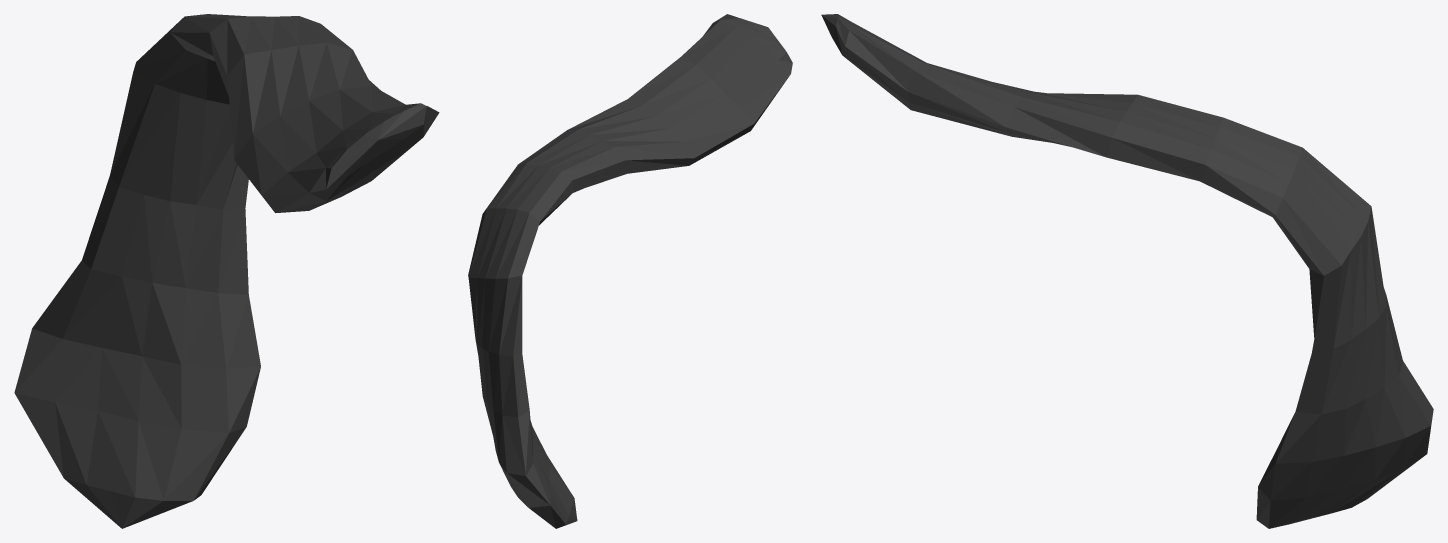
Rendered from Caudal_cruciate_ligament.glb.
3 renders of one model, left to right at view 1: azimuth 30°, elevation 25°; view 2: azimuth 150°, elevation 25°; view 3: azimuth 270°, elevation 25°, orthographic. The views are drawn at different scales.
Parts seen in each view (by area): view 1: Caudal_cruciate_ligament; view 2: Caudal_cruciate_ligament; view 3: Caudal_cruciate_ligament.
Boxes of the visible parts, left/top/right/bottom form: Caudal_cruciate_ligament: left=14, top=14, right=439, bottom=528; Caudal_cruciate_ligament: left=468, top=14, right=792, bottom=528; Caudal_cruciate_ligament: left=821, top=14, right=1433, bottom=528.
Size of the model in its own units: 0.0616 by 0.1493 by 0.1625.
1 material, 1 textured.
